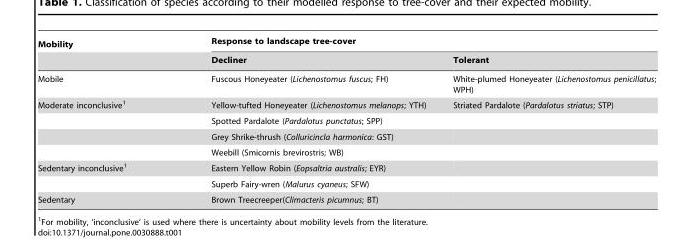table: (37, 36, 655, 203)
table column: (168, 36, 438, 203), (438, 36, 655, 203), (37, 36, 168, 203)
table column header: (37, 36, 655, 69)
table row: (37, 69, 655, 96), (37, 51, 655, 69), (37, 96, 655, 112), (37, 112, 655, 128), (37, 128, 655, 144), (37, 159, 655, 175), (37, 175, 655, 191), (37, 36, 655, 51), (37, 144, 655, 159), (37, 191, 655, 203)
table spanning cell: (37, 96, 168, 159), (168, 36, 655, 51), (37, 36, 168, 69), (37, 159, 168, 191)
